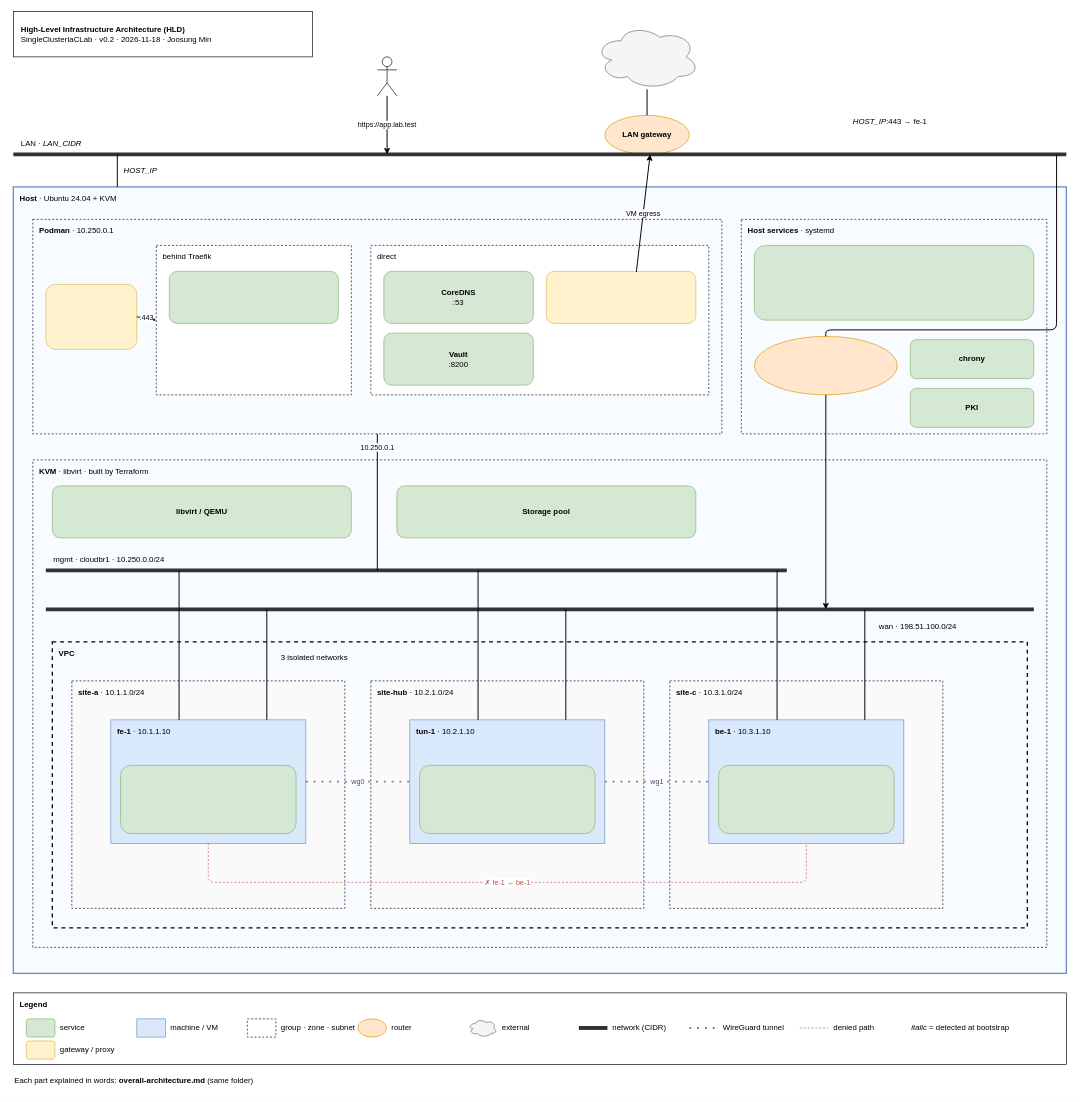
This 1080x1102 diagram has some shape labels left out. The centre of each missing label's shape, as x and y in pixels:
Admin: point (387, 76)
frontend: point (208, 799)
Gitea: point (253, 297)
Internet: point (646, 56)
k3s PostgREST · Postgres: point (806, 799)
nftables DNAT :443 → fe-1: point (825, 365)
runner: point (894, 282)
Squid :3128: point (621, 297)
Traefik :443: point (91, 316)
WireGuard hub: point (507, 799)
